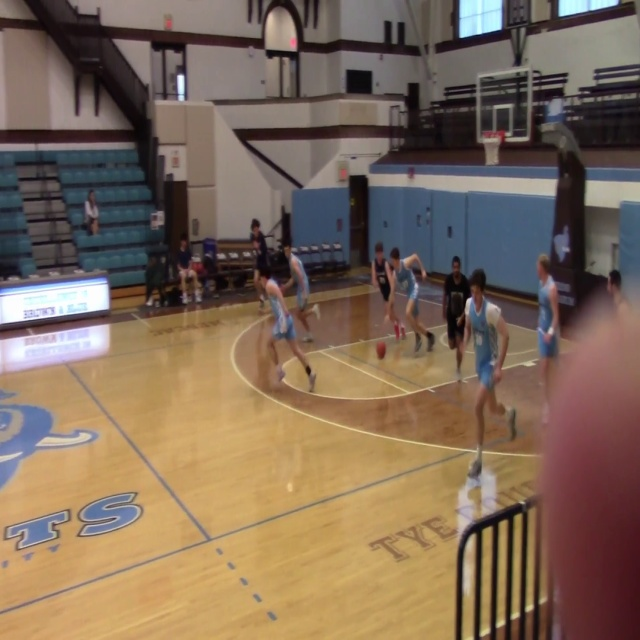Basketball: (265, 279, 280, 296), (376, 341, 386, 359)
